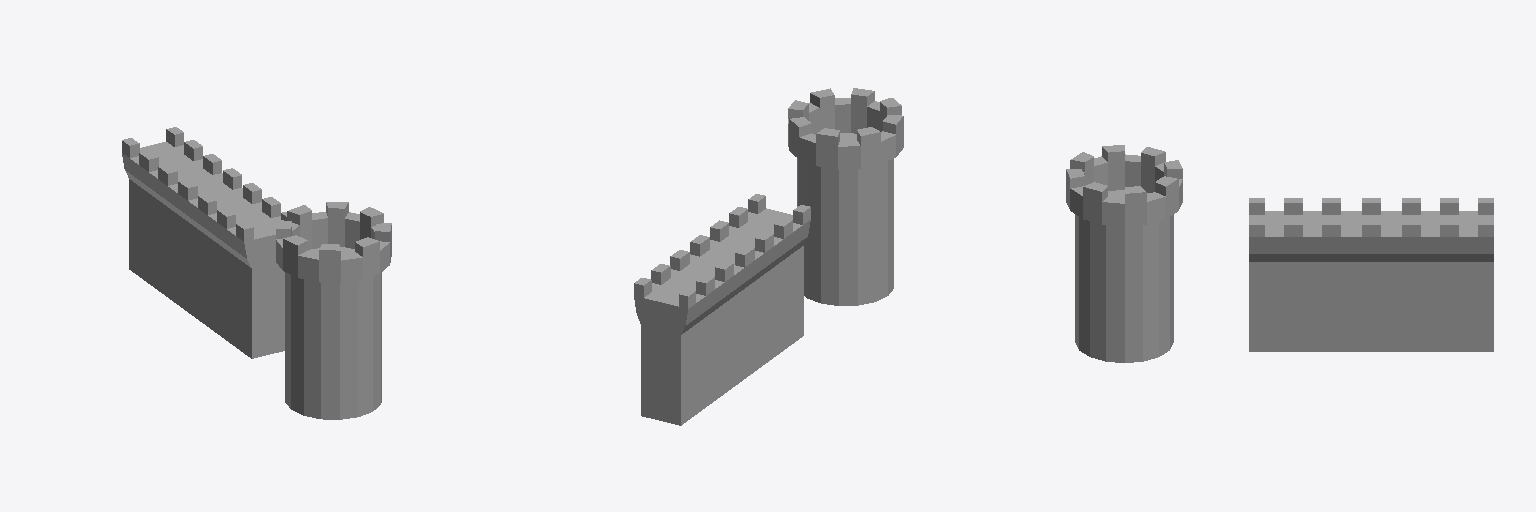
The model's file is WALL AND TOWER.obj.
The picture shows the model from 3 angles: view 1: azimuth 30°, elevation 25°; view 2: azimuth 150°, elevation 25°; view 3: azimuth 270°, elevation 25°; orthographic projection.
Parts seen in each view (by area): view 1: Object_BrickMedievalBlocks0129_1_S.jpg; view 2: Object_BrickMedievalBlocks0129_1_S.jpg; view 3: Object_BrickMedievalBlocks0129_1_S.jpg.
Boxes of the visible parts, <box> form: Object_BrickMedievalBlocks0129_1_S.jpg: <box>122,127,391,419</box>; Object_BrickMedievalBlocks0129_1_S.jpg: <box>634,88,903,425</box>; Object_BrickMedievalBlocks0129_1_S.jpg: <box>1066,145,1493,362</box>.
Size of the model in its own units: 0.6841 by 1.12 by 2.5.